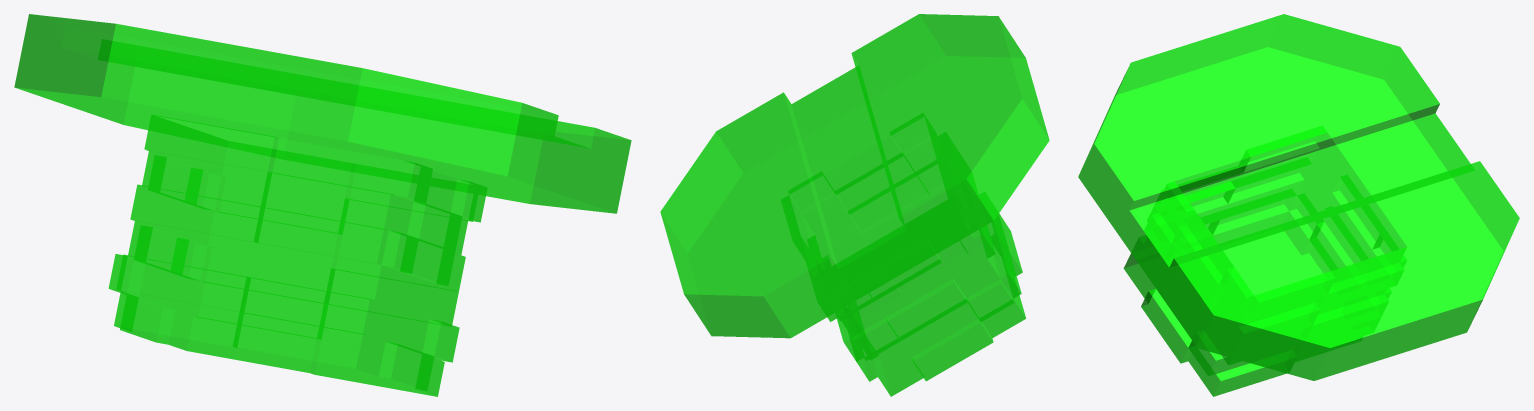
The model's file is gBoltAnim.fbx.
3 views of the same model, side by side, from view 1: azimuth 30°, elevation 25°; view 2: azimuth 150°, elevation 25°; view 3: azimuth 270°, elevation 25° (orthographic). The views are drawn at different scales.
Visible parts, largest first — view 1: Cube; view 2: Cube; view 3: Cube.
Boxes of the visible parts, x1=… form: Cube: x1=14, y1=14, x2=631, y2=396; Cube: x1=660, y1=14, x2=1049, y2=396; Cube: x1=1078, y1=14, x2=1519, y2=396.
Bounding box in the file's own units: 53.61 × 41.51 × 57.68.
